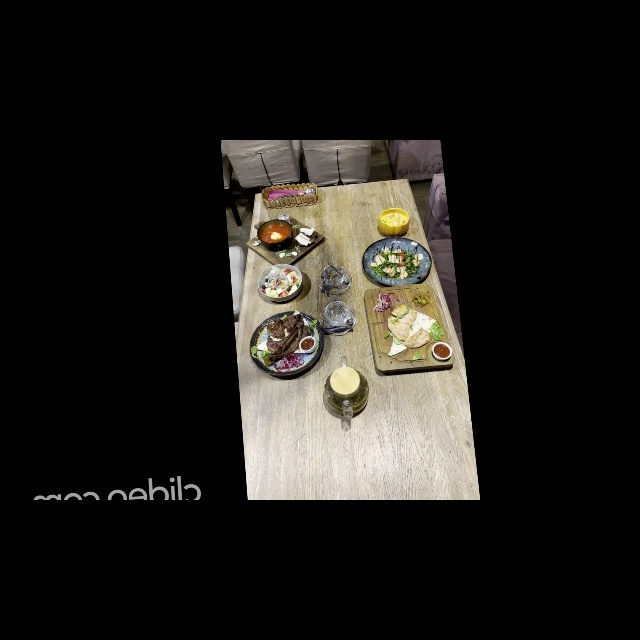Том ям: (242, 210, 328, 272)
графин с чаем: (320, 353, 372, 423)
закуска: (362, 279, 455, 378)
мясное блюдо: (245, 306, 329, 382)
салат: (359, 232, 434, 292)
салат цезарь: (255, 261, 305, 306)
суп сырный: (376, 206, 411, 239)
